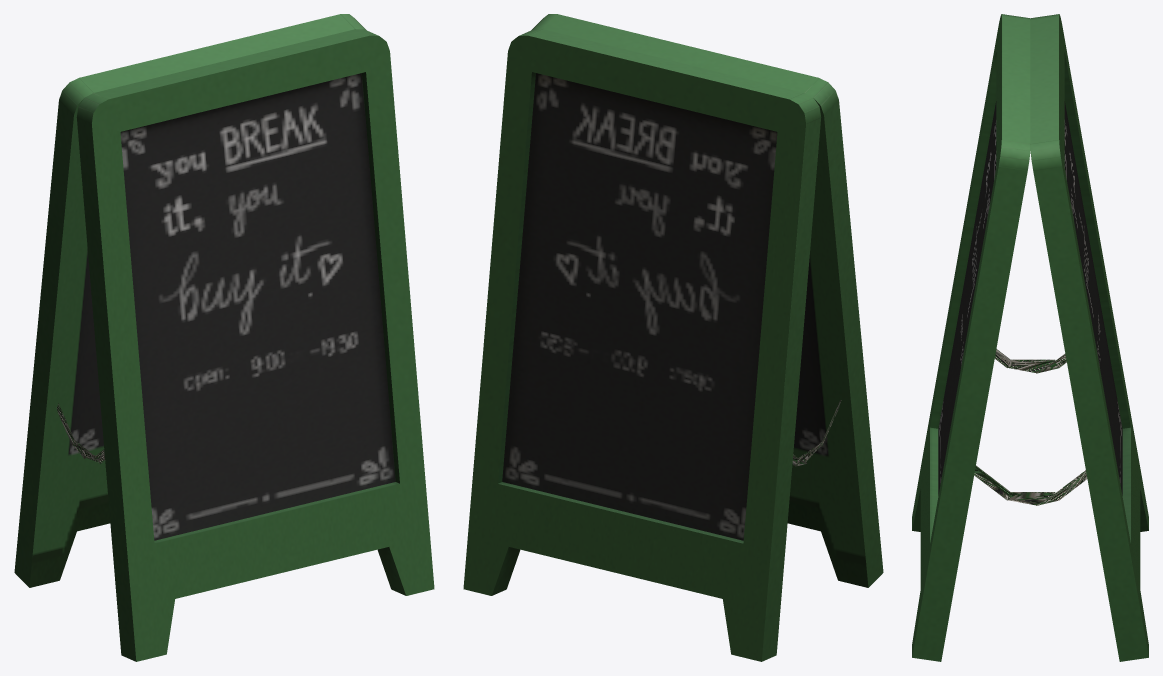
Rendered from sign01.fbx.
3 views of the same model, side by side, from view 1: azimuth 30°, elevation 25°; view 2: azimuth 150°, elevation 25°; view 3: azimuth 270°, elevation 25° (orthographic). The views are drawn at different scales.
Visible parts, largest first — view 1: Cube.001; view 2: Cube.001; view 3: Cube.001.
Boxes of the visible parts, x1,y1,x2,y2 form: Cube.001: [14, 14, 434, 661]; Cube.001: [463, 14, 883, 661]; Cube.001: [912, 14, 1148, 661].
Bounding box in the file's own units: 0.3137 × 0.2221 × 0.5314.
1 material, 1 textured.
